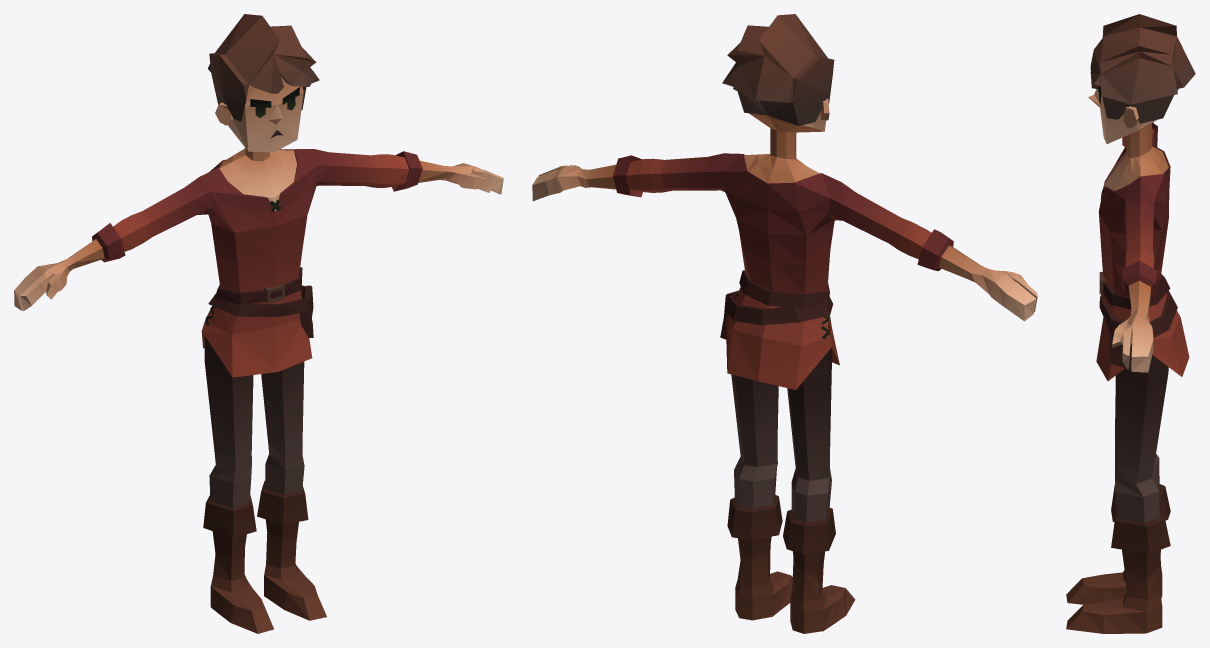
File: prova.fbx
3 views of the same model, side by side, from view 1: azimuth 30°, elevation 25°; view 2: azimuth 150°, elevation 25°; view 3: azimuth 270°, elevation 25° (orthographic). The views are drawn at different scales.
Parts seen in each view (by area): view 1: Mesh_0; view 2: Mesh_0; view 3: Mesh_0.
Part boxes in pixels (x1,y1,x2,y2): Mesh_0: (14, 14, 503, 633); Mesh_0: (532, 14, 1037, 633); Mesh_0: (1066, 14, 1195, 633).
Size of the model in its own units: 7729 by 8894 by 1739.
Materials: 1 (1 with a texture image).
